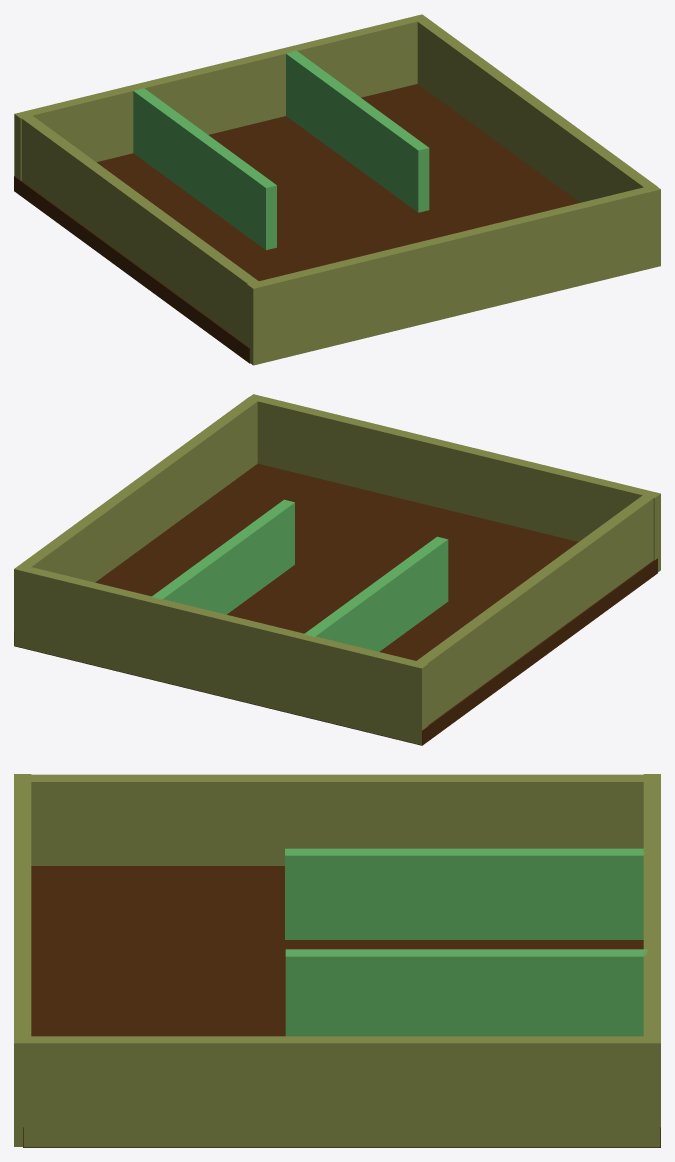
Rendered from block.gltf.
The picture shows the model from 3 angles, top to bottom: view 1: azimuth 30°, elevation 25°; view 2: azimuth 150°, elevation 25°; view 3: azimuth 270°, elevation 25°; orthographic projection. The views are drawn at different scales.
Parts seen in each view (by area): view 1: Cube; view 2: Cube; view 3: Cube.
Part boxes in pixels (left/top/right/bottom): Cube: left=14, top=14, right=660, bottom=365; Cube: left=14, top=394, right=660, bottom=745; Cube: left=14, top=774, right=660, bottom=1147.
Size of the model in its own units: 18.79 by 3.4 by 19.06.
